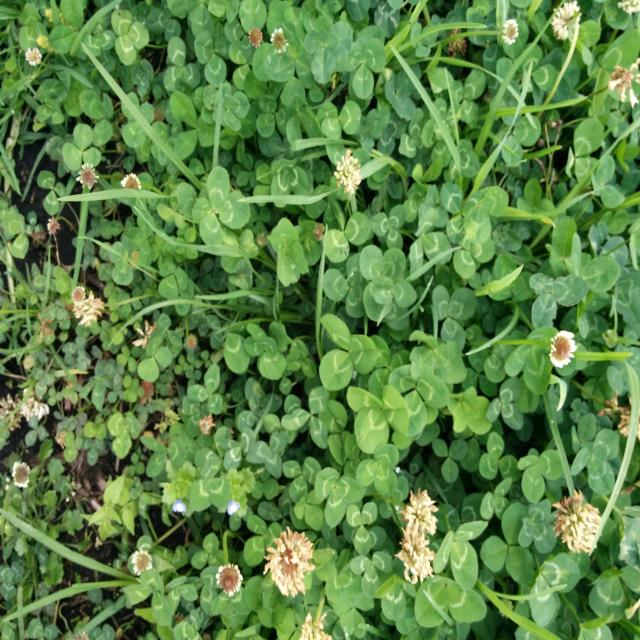Four Leaf Clover: (191, 166, 250, 247)
